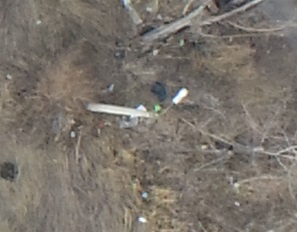opora: (87, 85, 190, 119)
